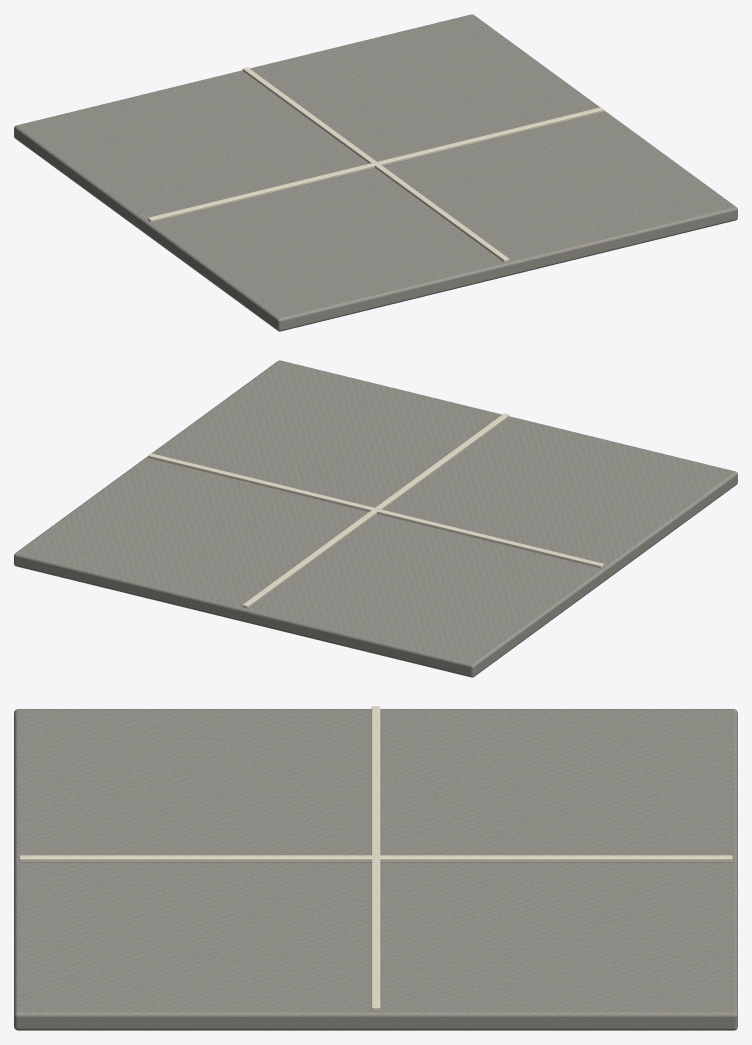
The model's file is ceramics-pottery-studio-courtyard-paving-514307d0__29528.glb.
The picture shows the model from 3 angles, top to bottom: view 1: azimuth 30°, elevation 25°; view 2: azimuth 150°, elevation 25°; view 3: azimuth 270°, elevation 25°; orthographic projection. The views are drawn at different scales.
Visible parts, largest first — view 1: courtyard-paving; view 2: courtyard-paving; view 3: courtyard-paving.
Part boxes in pixels (x1,y1,x2,y2): courtyard-paving: (14,14,737,331); courtyard-paving: (14,360,737,677); courtyard-paving: (14,706,737,1030).
Bounding box in the file's own units: 2 × 0.067 × 2.
2 materials, 1 textured.
